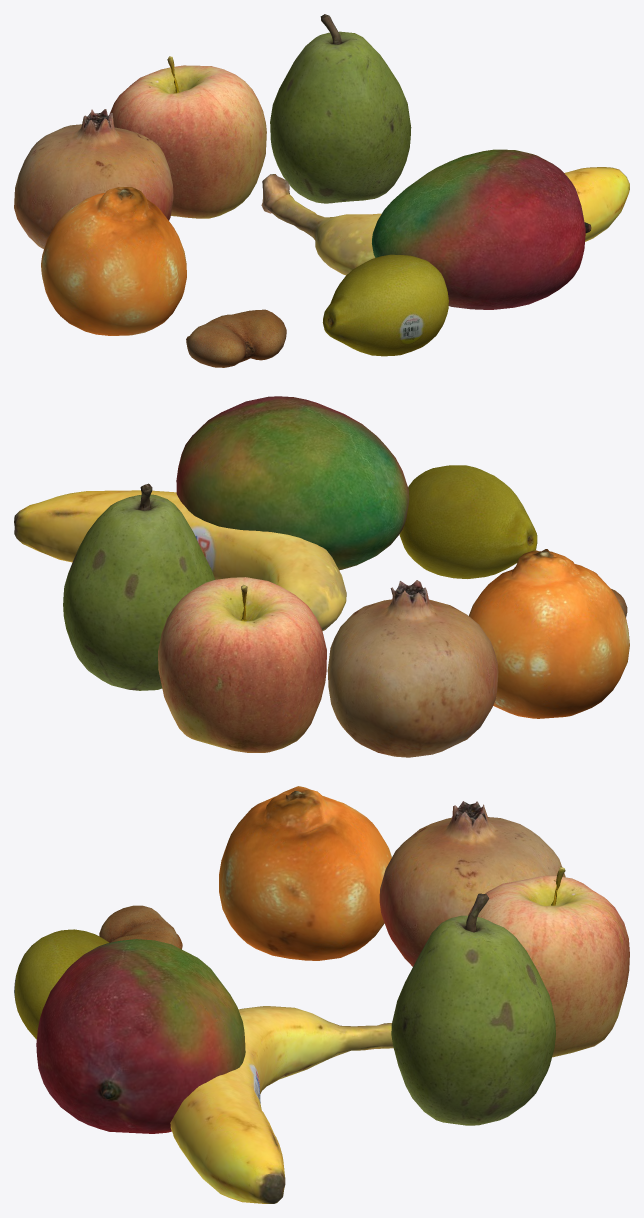
File: fruits.fbx
3 views of the same model, one above another, from view 1: azimuth 30°, elevation 25°; view 2: azimuth 150°, elevation 25°; view 3: azimuth 270°, elevation 25° (orthographic). The views are drawn at different scales.
Parts seen in each view (by area): view 1: 01_mango, pear01_lr, 72_orange, apple01_lr, 24_pomegranate, 04_lemon, banana01_lr, 18_kiwi; view 2: 01_mango, apple01_lr, 24_pomegranate, 72_orange, pear01_lr, banana01_lr, 04_lemon; view 3: 01_mango, pear01_lr, 72_orange, banana01_lr, apple01_lr, 24_pomegranate, 04_lemon, 18_kiwi.
Part boxes in pixels (left/top/right/bottom): 01_mango: left=372, top=149, right=591, bottom=309; pear01_lr: left=270, top=14, right=411, bottom=203; 72_orange: left=41, top=187, right=186, bottom=335; apple01_lr: left=109, top=56, right=266, bottom=218; 24_pomegranate: left=14, top=109, right=173, bottom=249; 04_lemon: left=322, top=254, right=448, bottom=356; banana01_lr: left=261, top=167, right=629, bottom=275; 18_kiwi: left=186, top=309, right=286, bottom=367; 01_mango: left=176, top=396, right=409, bottom=570; apple01_lr: left=158, top=577, right=326, bottom=752; 24_pomegranate: left=327, top=580, right=498, bottom=757; 72_orange: left=469, top=549, right=629, bottom=718; pear01_lr: left=63, top=483, right=215, bottom=690; banana01_lr: left=14, top=490, right=346, bottom=630; 04_lemon: left=399, top=465, right=537, bottom=578; 01_mango: left=36, top=939, right=245, bottom=1133; pear01_lr: left=391, top=893, right=555, bottom=1125; 72_orange: left=219, top=786, right=391, bottom=960; banana01_lr: left=170, top=1006, right=393, bottom=1203; apple01_lr: left=468, top=866, right=629, bottom=1057; 24_pomegranate: left=379, top=801, right=565, bottom=966; 04_lemon: left=14, top=929, right=108, bottom=1039; 18_kiwi: left=99, top=905, right=182, bottom=949.
Size of the model in its own units: 0.3218 by 0.1 by 0.2618.
